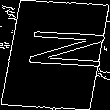N_E: (6, 32, 104, 78)
